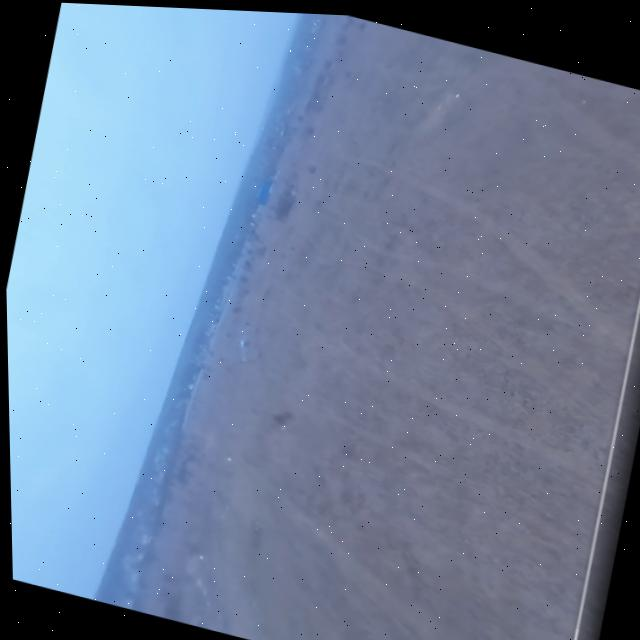planedrone: (232, 316, 258, 362)
